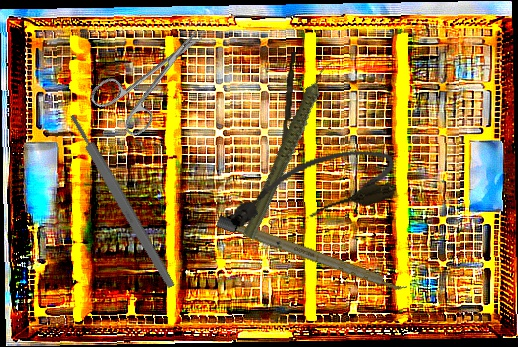Cannula: (221, 139, 402, 239)
Handpiece: (210, 58, 371, 241)
Iris Scissors: (86, 11, 224, 144)
Pusher: (280, 51, 297, 161)
Scalpel Handle: (67, 112, 177, 290), (215, 215, 409, 295)
